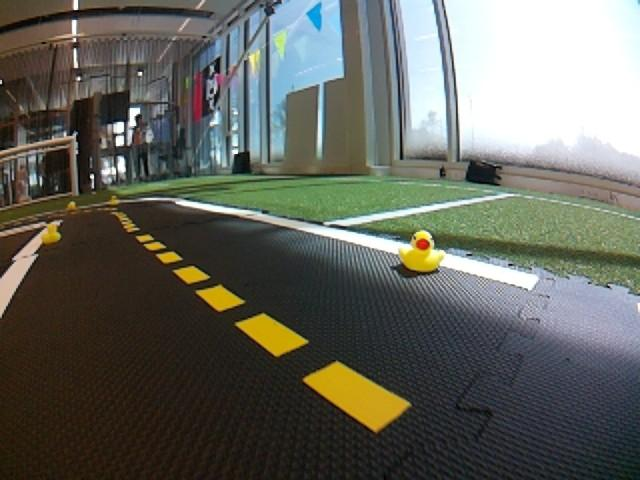Duckies: (398, 231, 443, 272), (40, 224, 62, 244), (109, 196, 120, 205), (68, 201, 76, 209)
